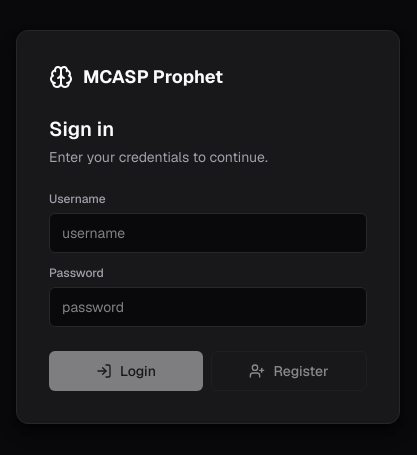
Scenario: LoginPage › Register Flow › shows generic registration failed error on other errors
The width and height of the screenshot is (417, 455).
Step 1. Type "newuser" into the field with placeholder "username" → (208, 233), box [49, 213, 367, 253]
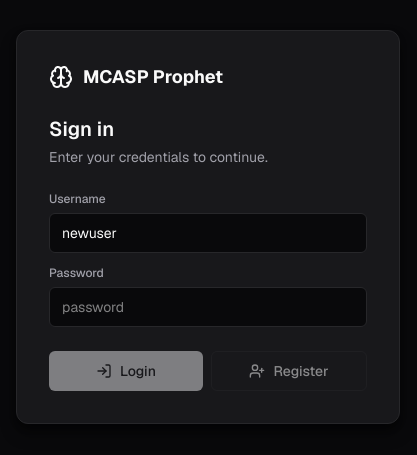
Step 2. Type "newpass" into the password field with placeholder "password" → (208, 307), box [49, 287, 367, 327]
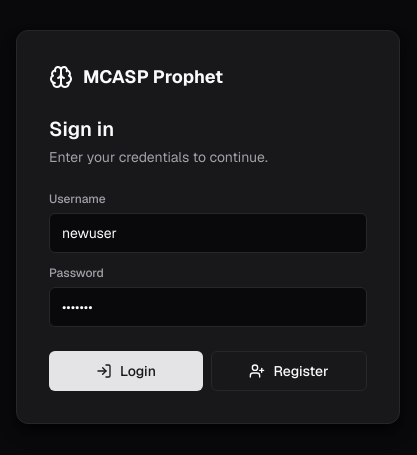
Step 3. Click the button "Register" → (289, 371), box [211, 351, 367, 391]
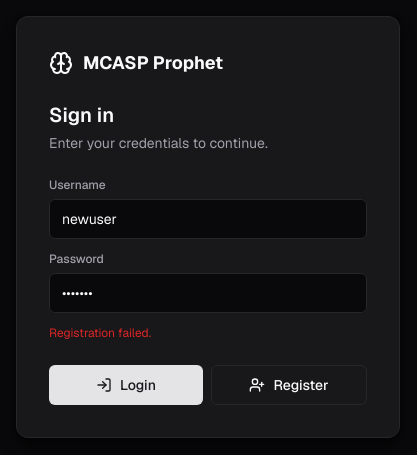
Now the text "Registration failed." is shown, box [49, 325, 151, 341]
